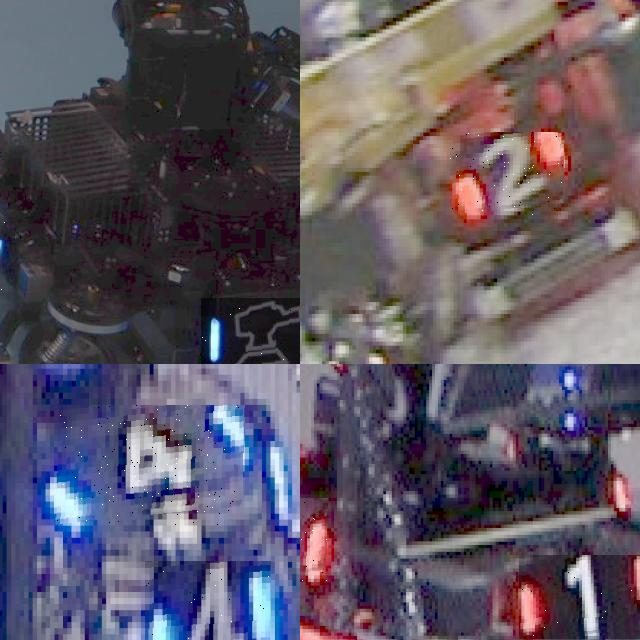B4: (54, 405, 245, 525), (145, 561, 270, 640)
Bs: (201, 298, 300, 364)
R1: (518, 555, 640, 639), (300, 498, 328, 582)
R2: (450, 132, 565, 215)
